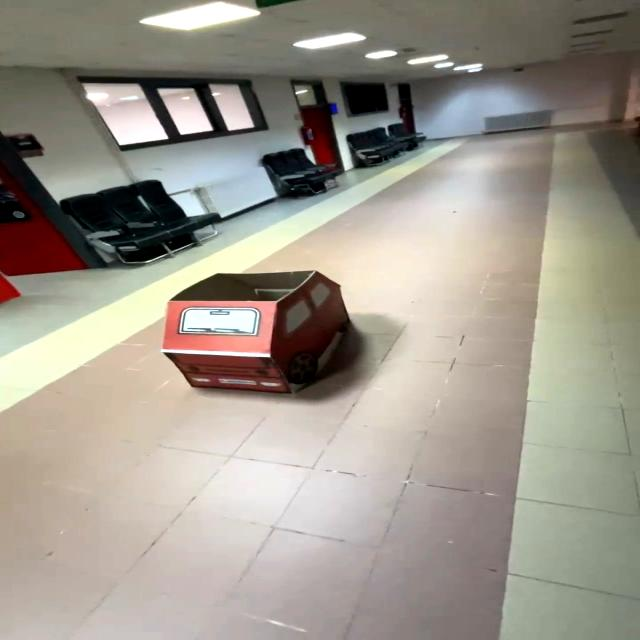red_car: (76, 256, 432, 411)
